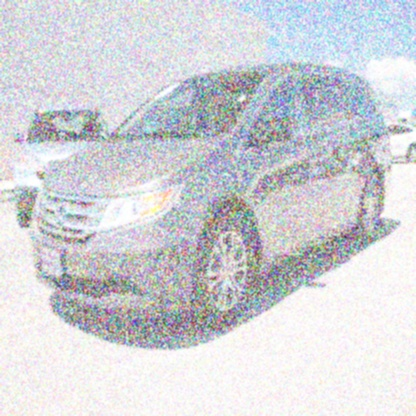Vehicle: (31, 61, 395, 329)
